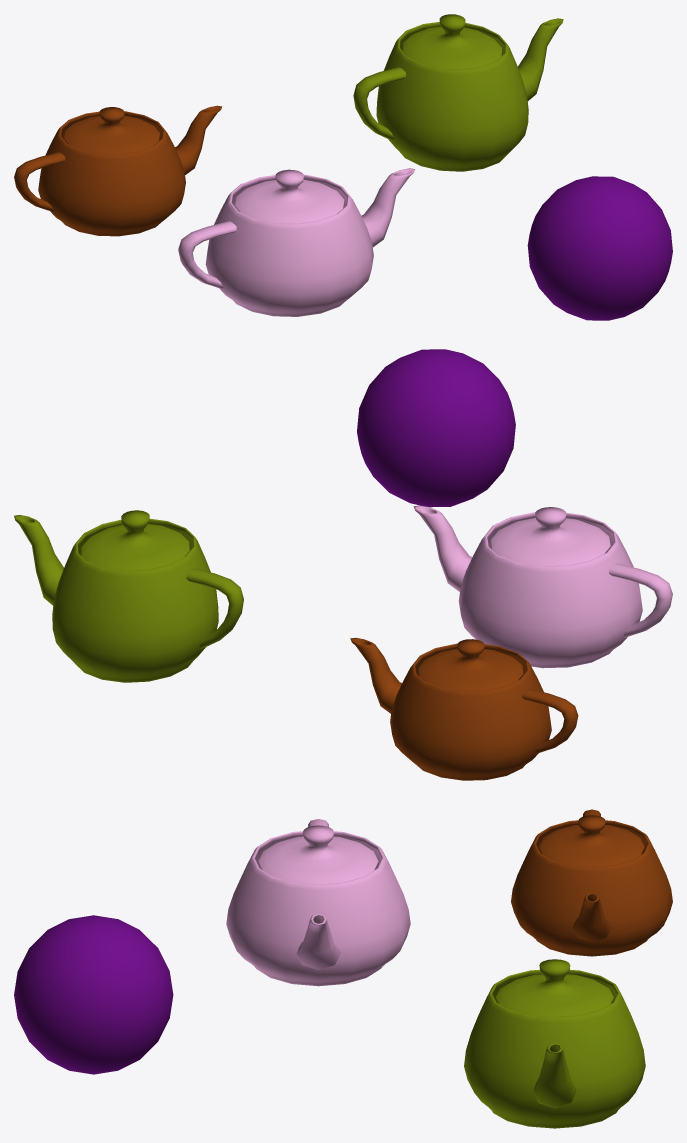
File: 茶壶球.obj
3 views of the same model, one above another, from view 1: azimuth 30°, elevation 25°; view 2: azimuth 150°, elevation 25°; view 3: azimuth 270°, elevation 25° (orthographic). The views are drawn at different scales.
Parts seen in each view (by area): view 1: Teapot001, Teapot002, Teapot003, GeoSphere001; view 2: Teapot001, Teapot002, Teapot003, GeoSphere001; view 3: Teapot002, Teapot001, GeoSphere001, Teapot003.
Boxes of the visible parts, box(x1,y1,x2,y2) form: Teapot001: box(178, 168, 414, 316); Teapot002: box(353, 14, 563, 171); Teapot003: box(14, 105, 222, 236); GeoSphere001: box(527, 176, 672, 320); Teapot001: box(413, 505, 672, 668); Teapot002: box(14, 510, 243, 682); Teapot003: box(350, 637, 578, 780); GeoSphere001: box(357, 349, 515, 507); Teapot002: box(464, 959, 645, 1128); Teapot001: box(226, 819, 410, 986); GeoSphere001: box(14, 915, 173, 1074); Teapot003: box(511, 809, 672, 956).
Bounding box in the file's own units: 96.61 × 24.07 × 95.16.
